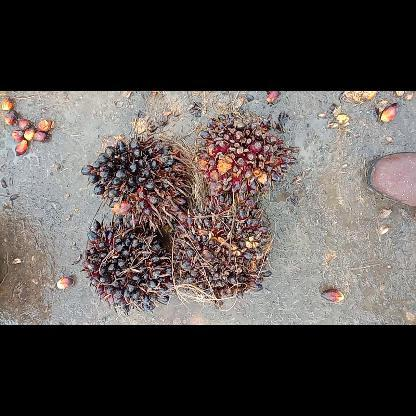TBS abnormal: (170, 202, 274, 306), (80, 214, 176, 314)
TBS masak: (77, 130, 198, 234), (191, 106, 301, 209)
